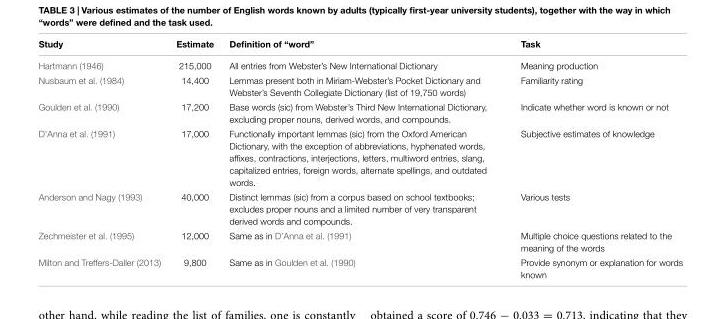table: (37, 37, 681, 279)
table column: (220, 37, 503, 279), (503, 37, 681, 279), (37, 37, 167, 279), (167, 37, 220, 279)
table column header: (37, 37, 681, 53)
table row: (37, 125, 681, 188), (37, 188, 681, 227), (37, 98, 681, 125), (37, 227, 681, 254), (37, 72, 681, 98), (37, 254, 681, 279), (37, 53, 681, 72), (37, 37, 681, 53)
